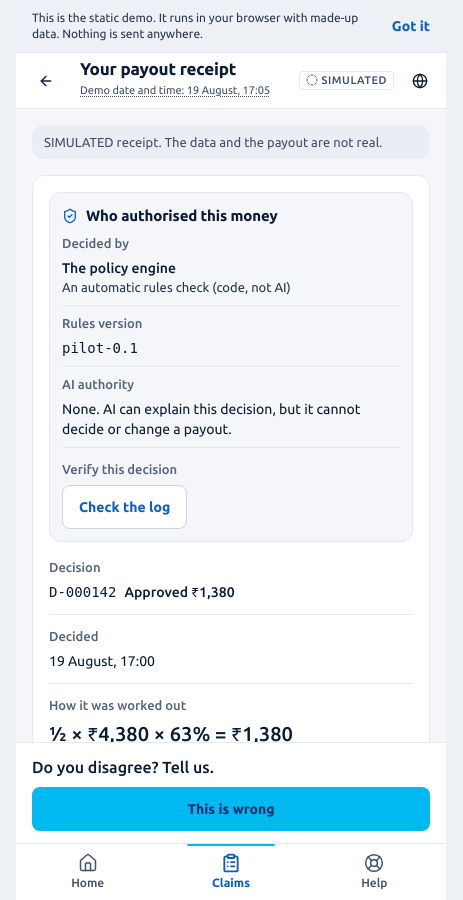
Check the log (AC-31) › says so when the log cannot be checked, and lets the merchant try again
The image size is (463, 900).
Click the button with test id "receipt-check-log": (125, 506) top-left (62, 484), bottom-right (187, 528)
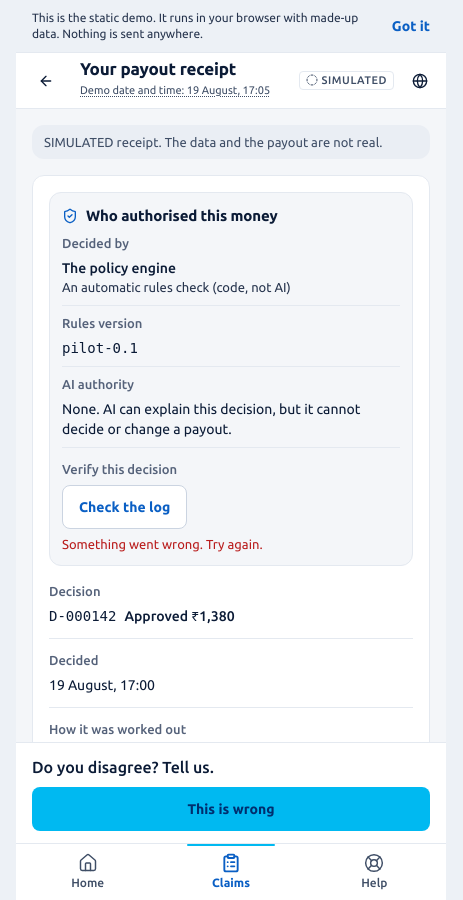
Result: the message with test id "receipt-log-error" reads "Something went wrong. Try again." at top-left (62, 536), bottom-right (263, 550)
Click the button with test id "receipt-check-log": (125, 506) top-left (62, 484), bottom-right (187, 528)
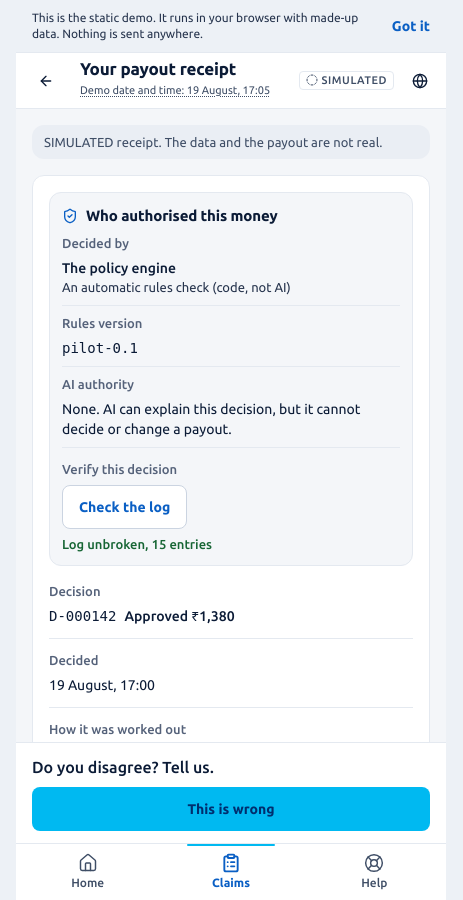
Result: the text with test id "receipt-log-result" reads "Log unbroken, 15 entries" at top-left (62, 536), bottom-right (212, 550)
